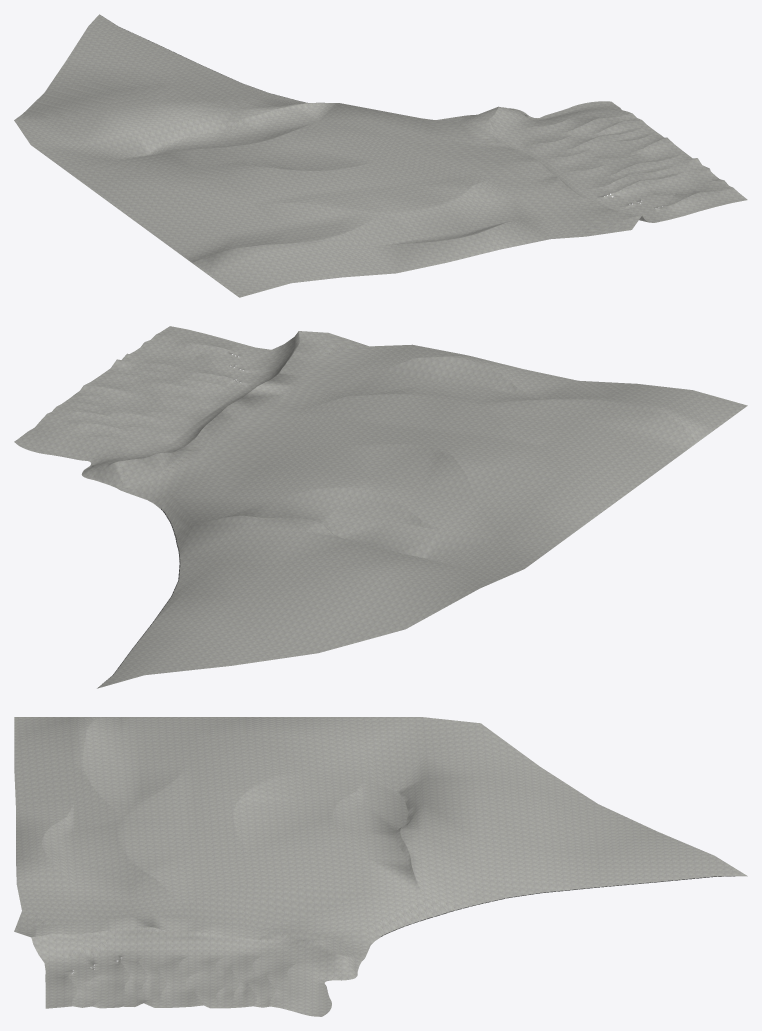
3 renders of one model, top to bottom at view 1: azimuth 30°, elevation 25°; view 2: azimuth 150°, elevation 25°; view 3: azimuth 270°, elevation 25°, orthographic. The views are drawn at different scales.
Visible parts, largest first — view 1: 02_-_Default; view 2: 02_-_Default; view 3: 02_-_Default.
Part boxes in pixels (box(x1,y1,x2,y2)): 02_-_Default: box(14, 14, 747, 297); 02_-_Default: box(14, 326, 747, 688); 02_-_Default: box(14, 717, 747, 1016).
Size of the model in its own units: 820 by 89.21 by 1005.
